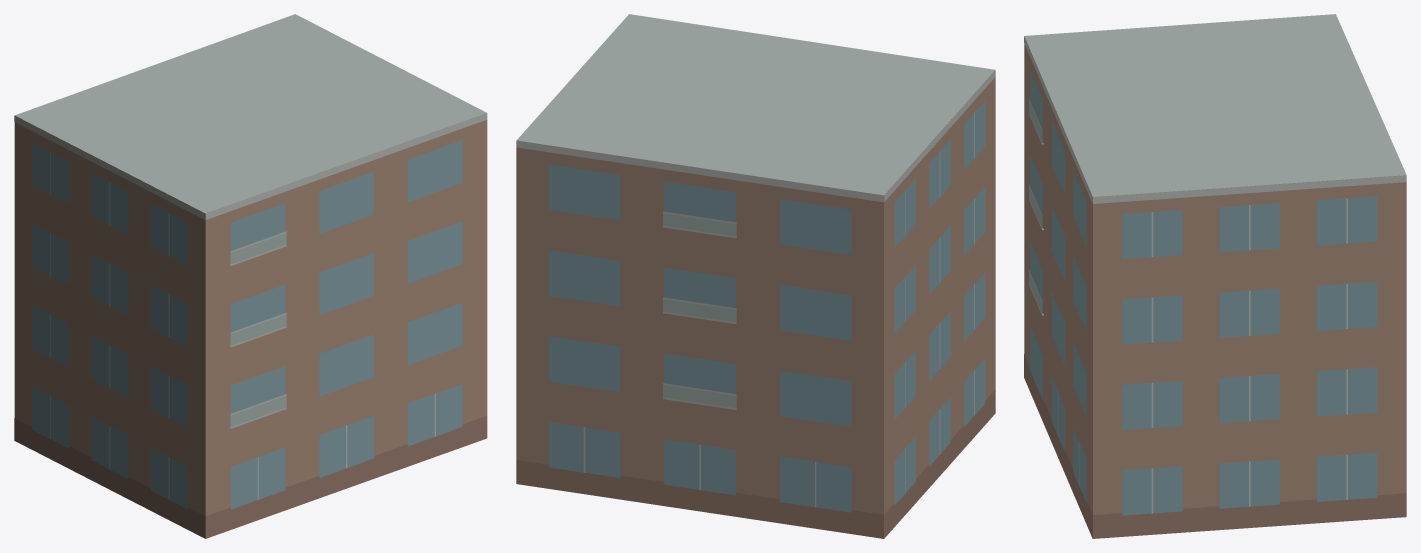
File: survey-upis-32930636.glb
3 views of the same model, side by side, from view 1: azimuth 30°, elevation 25°; view 2: azimuth 150°, elevation 25°; view 3: azimuth 270°, elevation 25° (orthographic). The views are drawn at different scales.
Parts seen in each view (by area): view 1: survey-upis-32930636.tmp; view 2: survey-upis-32930636.tmp; view 3: survey-upis-32930636.tmp.
Boxes of the visible parts, x1,y1,x2,y2 form: survey-upis-32930636.tmp: (14, 14, 487, 538); survey-upis-32930636.tmp: (516, 14, 995, 538); survey-upis-32930636.tmp: (1024, 14, 1406, 538).
Bounding box in the file's own units: 13.8 × 12 × 12.18.
